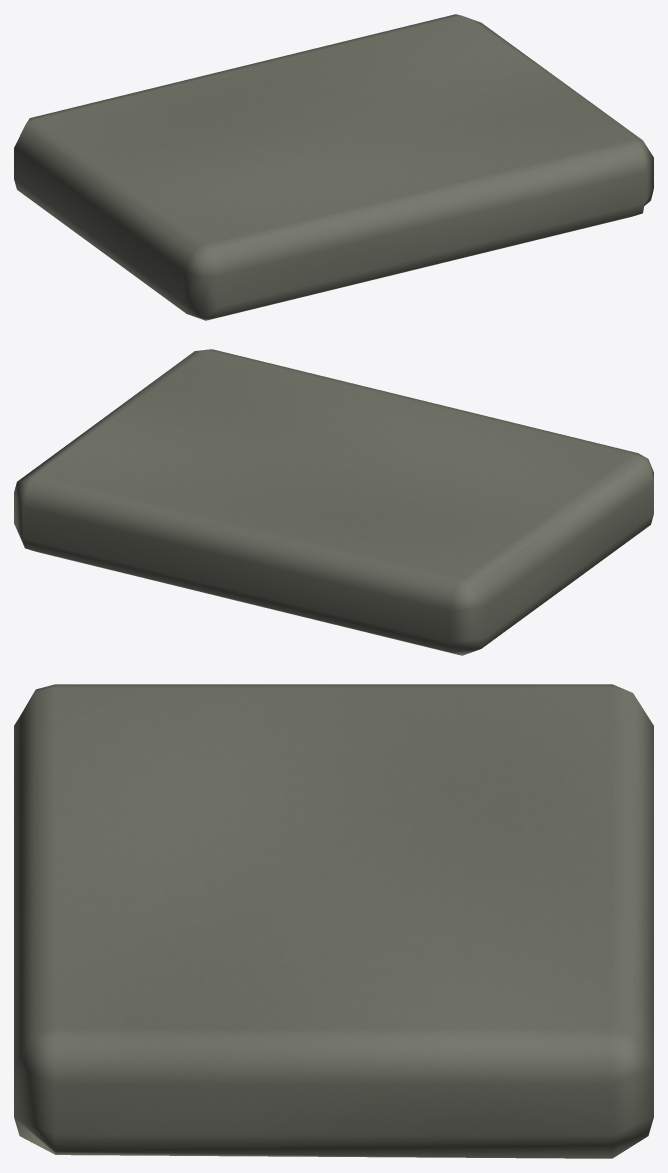
File: stone_path.gltf
3 renders of one model, top to bottom at view 1: azimuth 30°, elevation 25°; view 2: azimuth 150°, elevation 25°; view 3: azimuth 270°, elevation 25°, orthographic. The views are drawn at different scales.
Size of the model in its own units: 0.64 by 0.1 by 0.46.
Materials: 1 (1 with a texture image).
